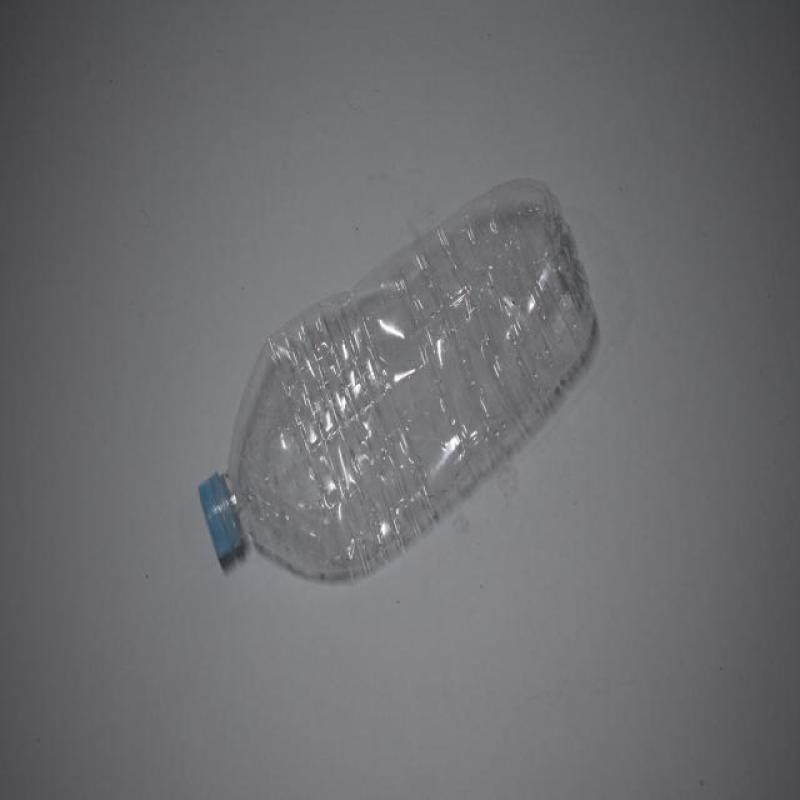botella: (198, 178, 596, 582)
